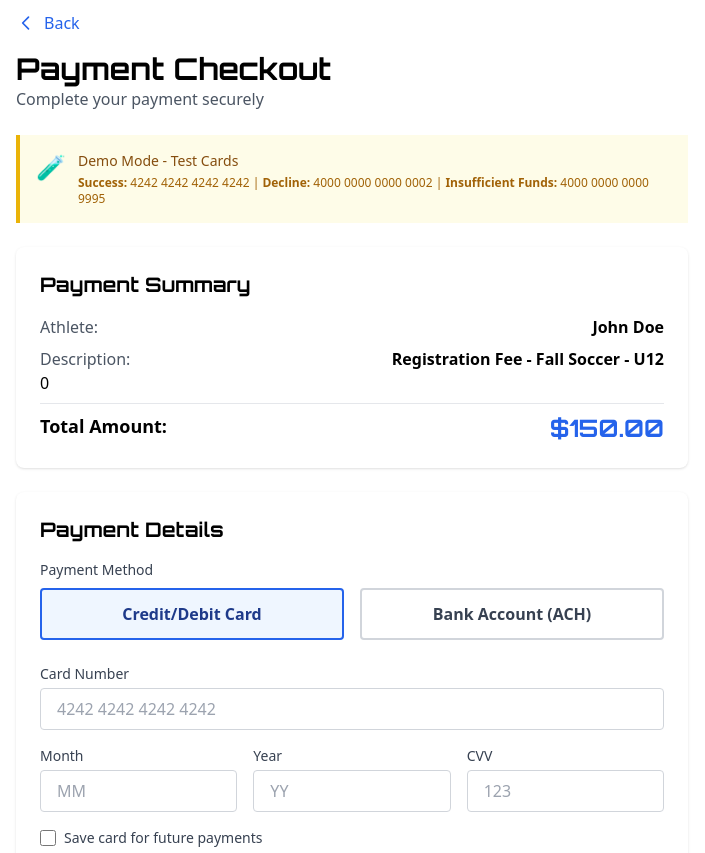
Test: PaymentCheckout › shows ACH coming soon message
The image size is (705, 853).
Click the button "Bank Account (ACH)" at (512, 614), box [360,588,664,640]
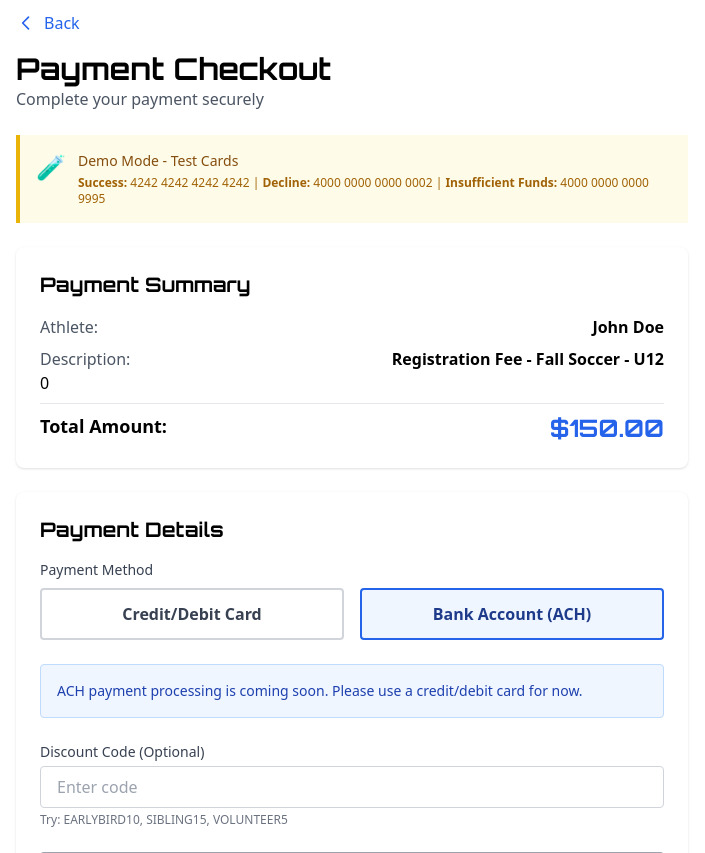
Result: the text "ACH payment processing is coming soon" is shown at [57,681,583,700]
